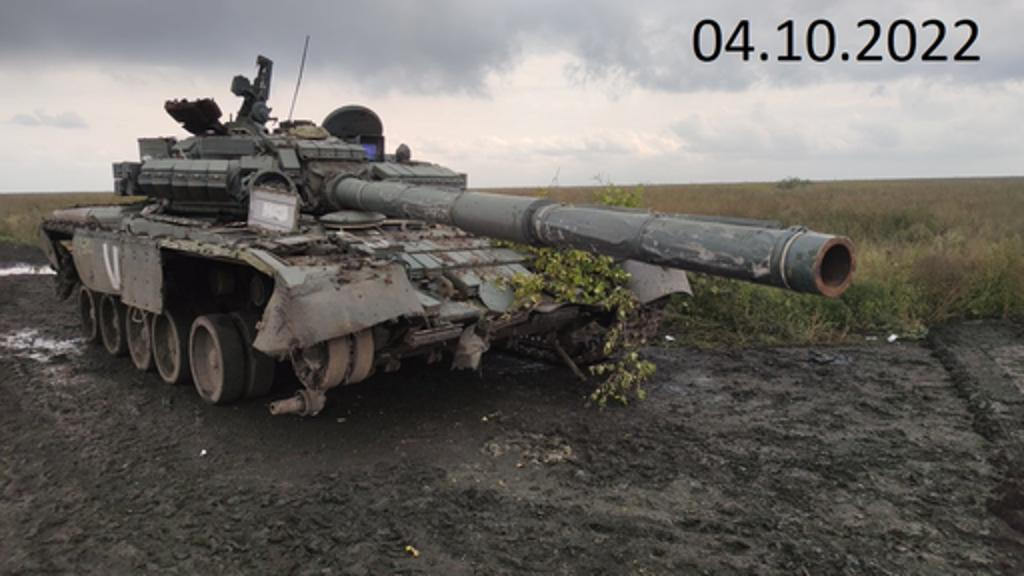TANK: (32, 54, 860, 434)
